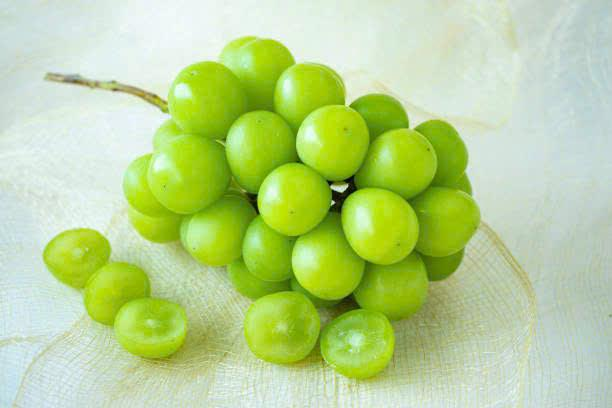grape: (37, 24, 485, 374), (164, 55, 257, 136), (141, 129, 230, 211), (239, 290, 329, 367), (339, 185, 421, 264), (364, 129, 446, 205), (252, 159, 331, 234), (292, 101, 367, 179), (322, 306, 396, 379), (113, 296, 195, 359), (274, 52, 346, 108)
